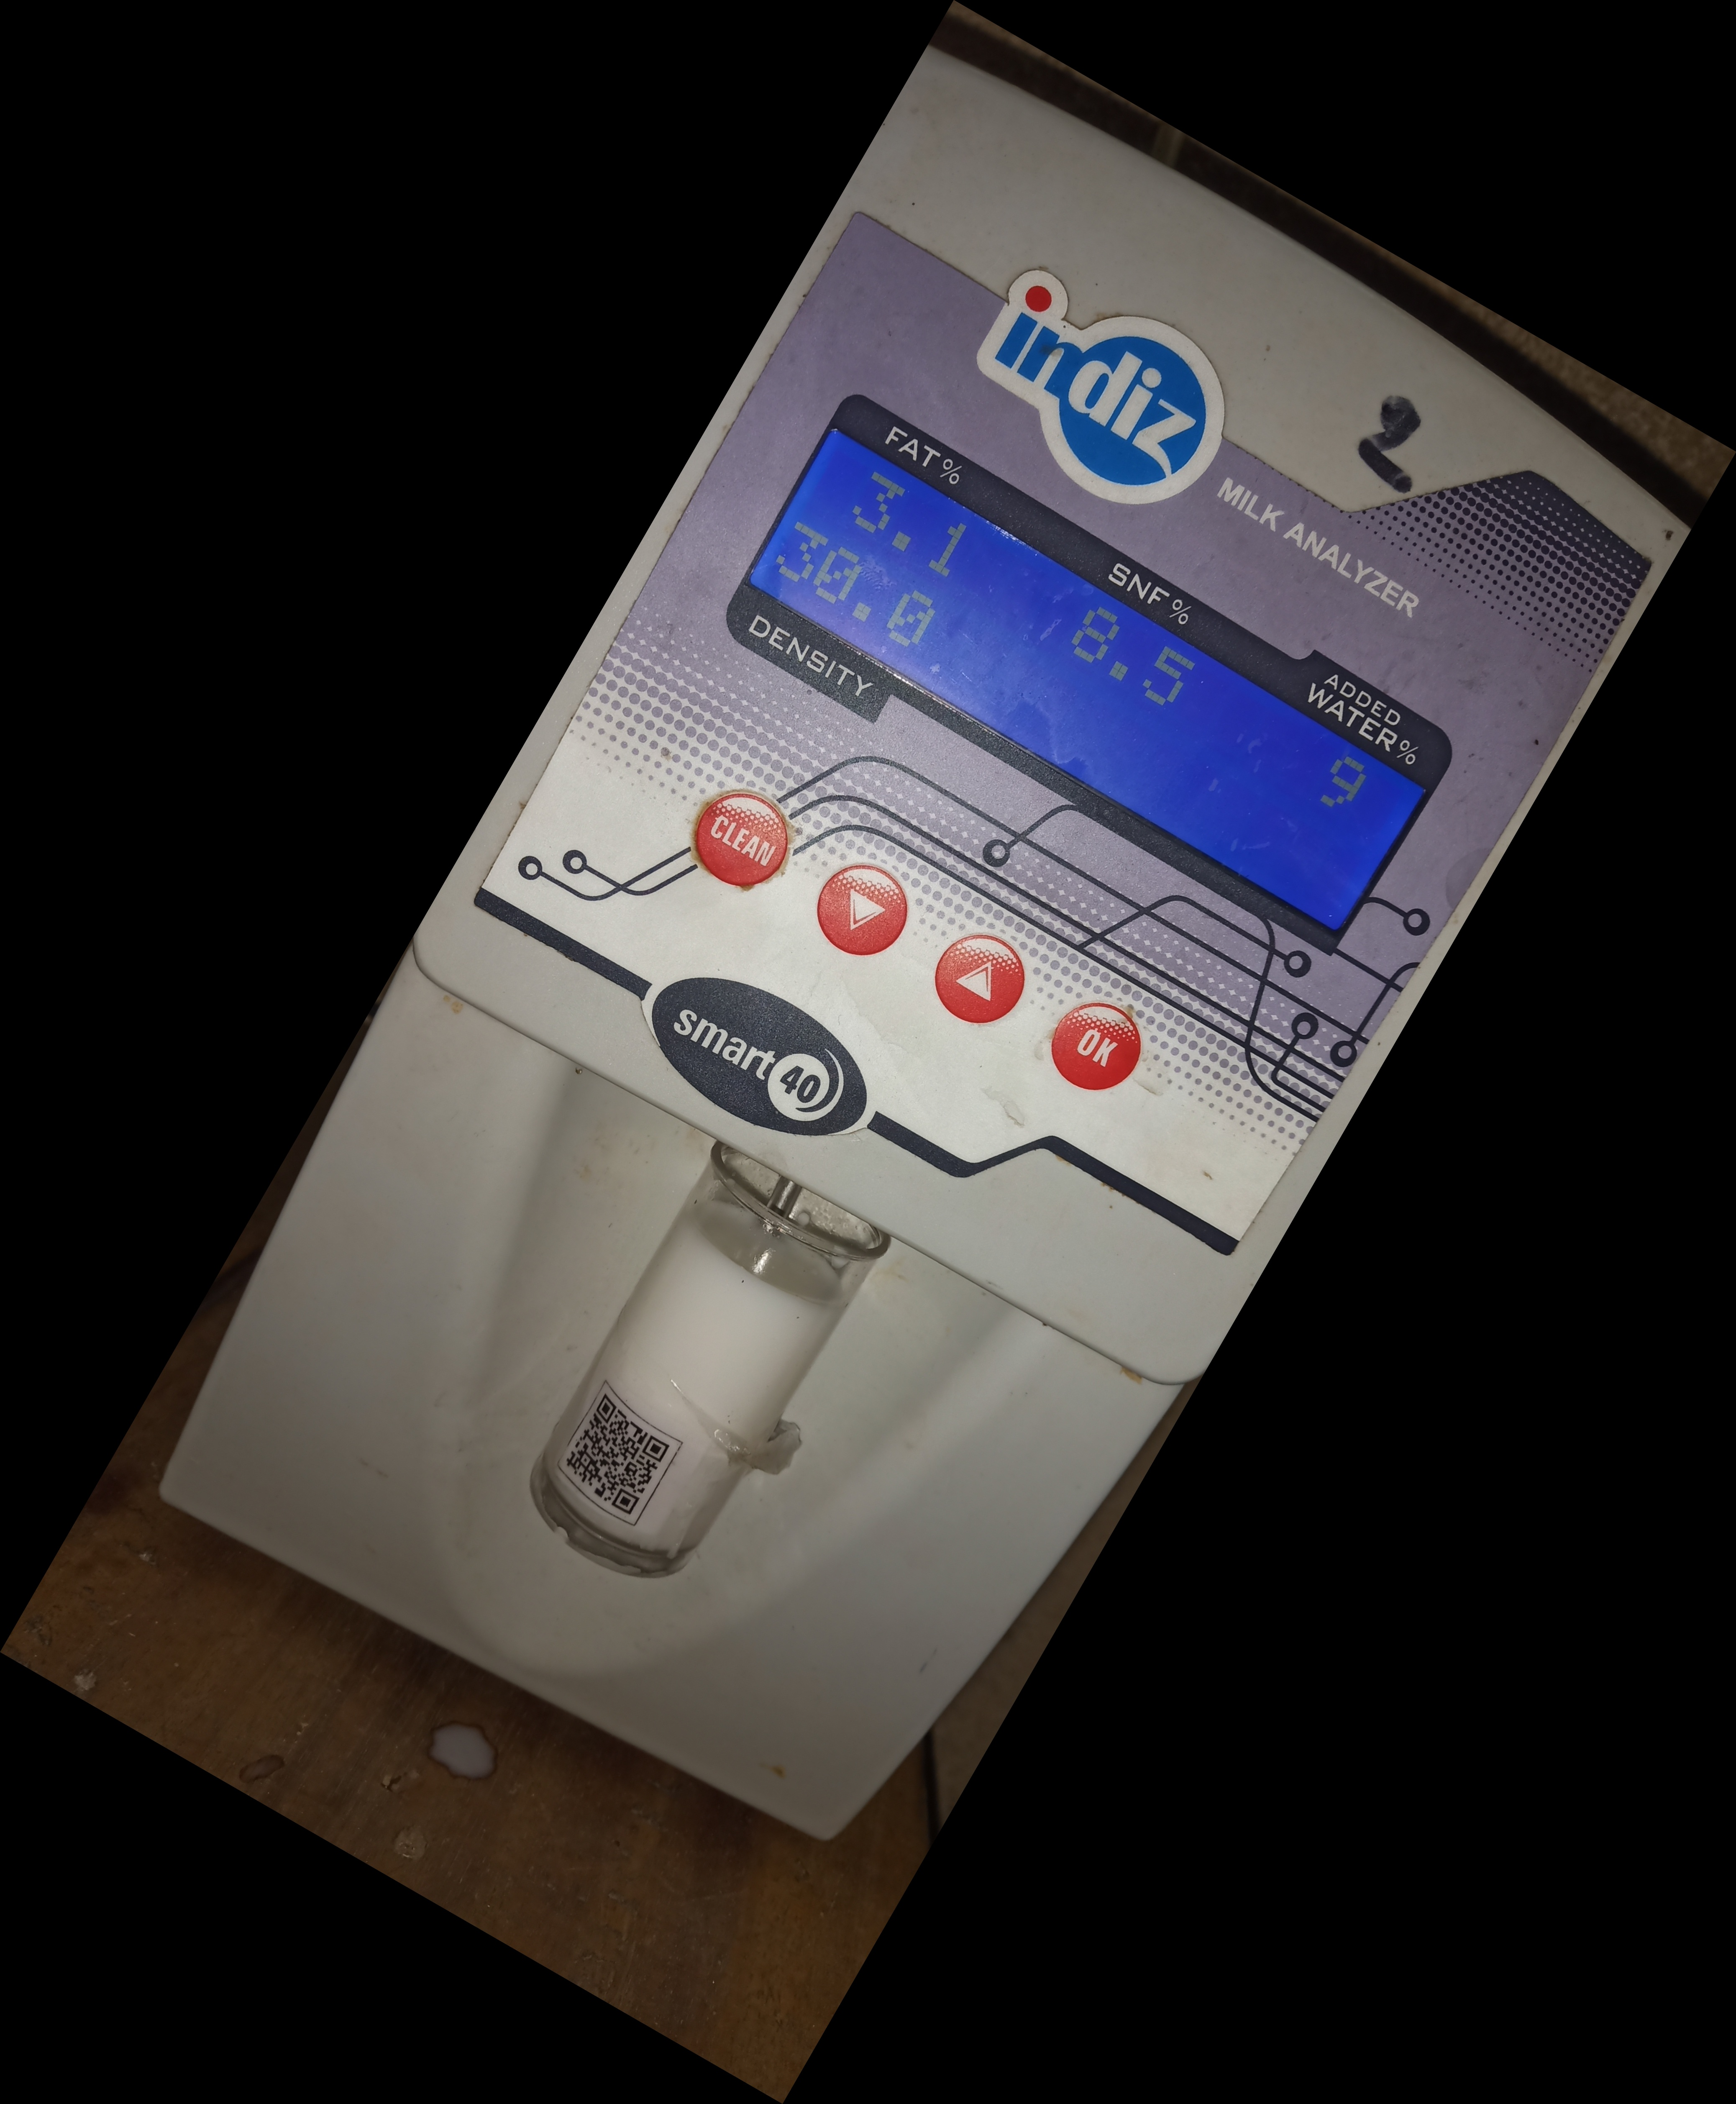lcd: (702, 398, 1471, 956)
qr: (538, 1374, 688, 1545)
